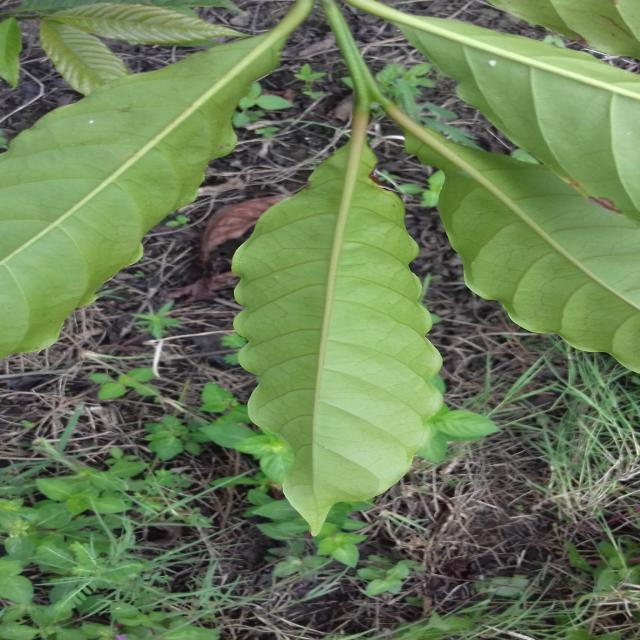Sanas: (232, 35, 498, 541)
